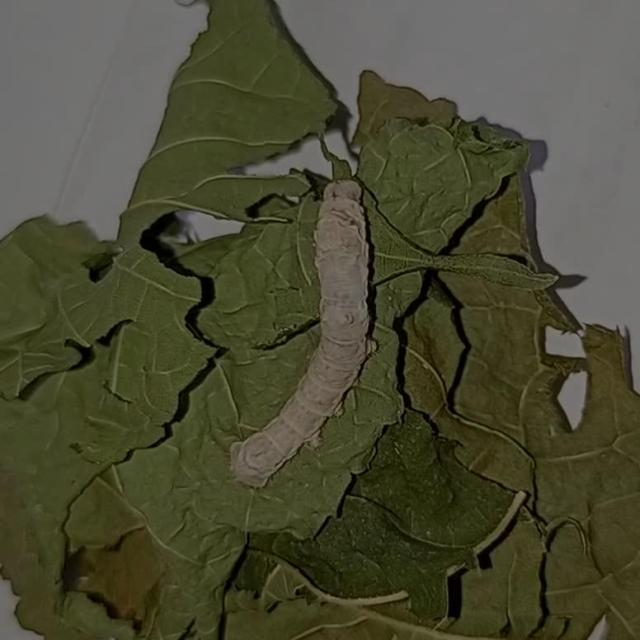Healthy: (211, 139, 402, 516)
